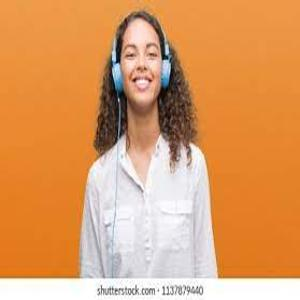Headphones: (106, 10, 175, 96)
